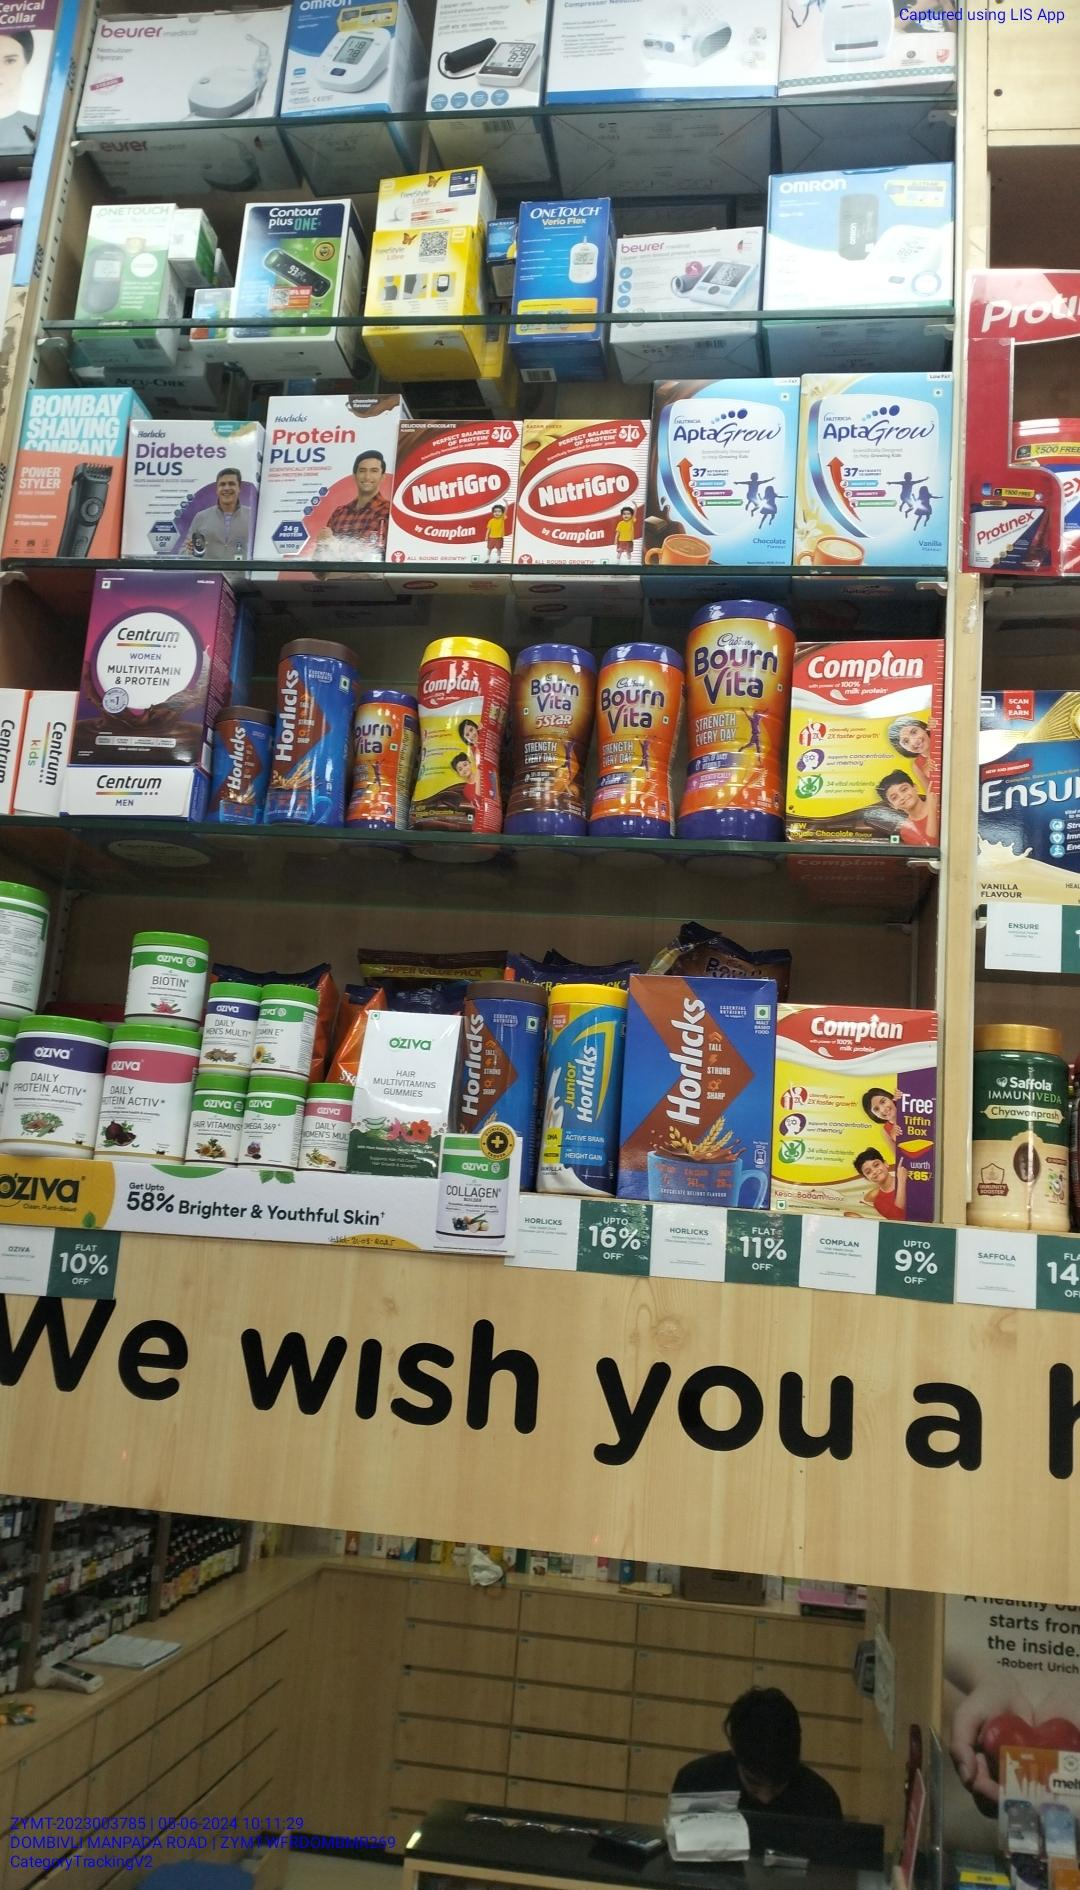BOURN_VITA_FIVE_STAR_MAGIC_500_G_JAR: (504, 640, 596, 840)
HORLICKS_JUNIOR_VANILLA_500_GM_JAR: (539, 983, 614, 1194)
HORLICK_CHOCOLATE_500_G_PACK: (622, 975, 771, 1210)
